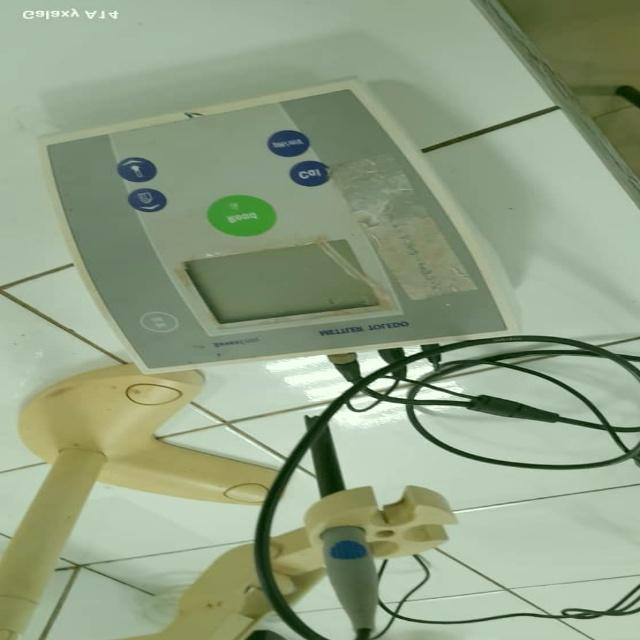PH meter: (21, 17, 640, 640)
